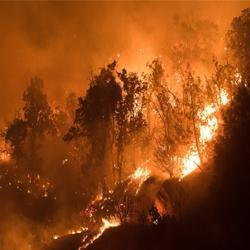fire: (183, 153, 202, 176), (201, 124, 214, 145), (136, 167, 151, 182), (200, 105, 218, 117)
